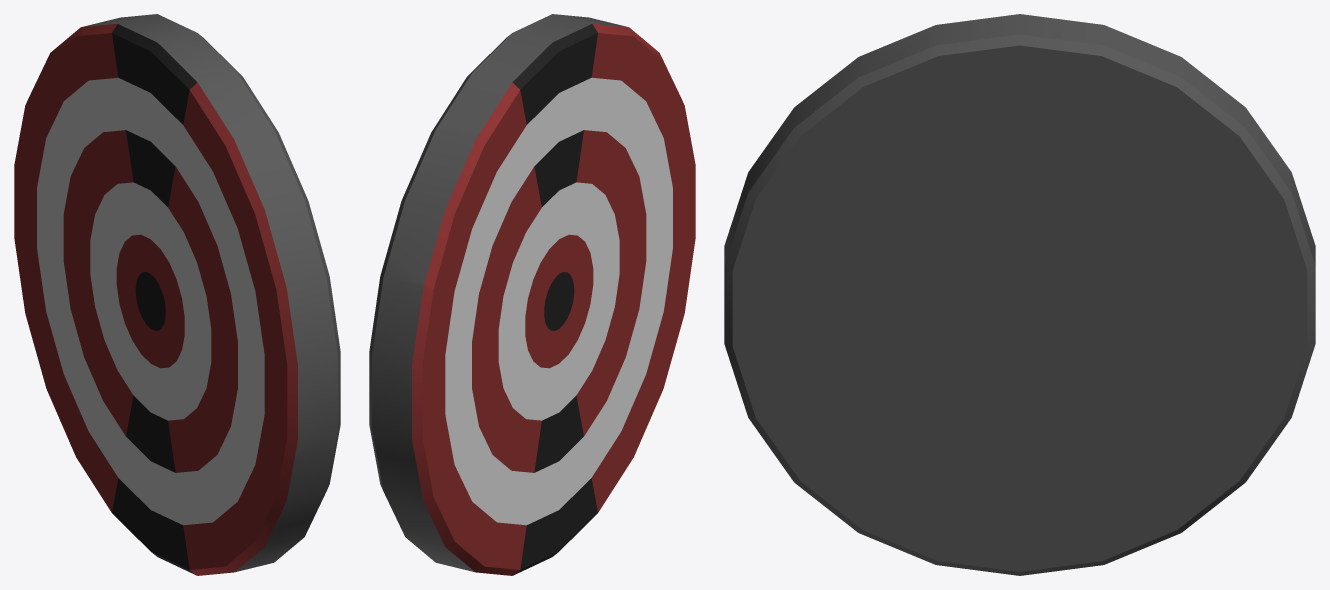
The model's file is Entity_Target-bkn.FBX.
3 views of the same model, side by side, from view 1: azimuth 30°, elevation 25°; view 2: azimuth 150°, elevation 25°; view 3: azimuth 270°, elevation 25° (orthographic). The views are drawn at different scales.
Visible parts, largest first — view 1: Target_Part_10, Target_Part_7, Target_Part_8, Target_Part_1, Target_Part_2, Target_Part_6, Target_Part_3, Target_Part_4, Target_Part_5, Target_Part_9; view 2: Target_Part_10, Target_Part_4, Target_Part_6, Target_Part_8, Target_Part_7, Target_Part_3, Target_Part_1, Target_Part_5, Target_Part_2, Target_Part_9; view 3: Target_Part_10, Target_Part_4, Target_Part_1, Target_Part_7, Target_Part_8, Target_Part_3, Target_Part_6, Target_Part_5, Target_Part_2, Target_Part_9.
Part boxes in pixels (<box>): Target_Part_10: <box>35,304,181,567</box>; Target_Part_7: <box>174,416,335,575</box>; Target_Part_8: <box>82,14,252,230</box>; Target_Part_1: <box>164,91,319,279</box>; Target_Part_2: <box>249,239,340,462</box>; Target_Part_6: <box>25,17,165,239</box>; Target_Part_3: <box>166,257,261,427</box>; Target_Part_4: <box>14,106,88,349</box>; Target_Part_5: <box>97,239,170,355</box>; Target_Part_9: <box>77,223,136,330</box>; Target_Part_10: <box>400,334,589,575</box>; Target_Part_4: <box>369,252,496,525</box>; Target_Part_6: <box>387,122,574,329</box>; Target_Part_8: <box>437,14,618,210</box>; Target_Part_7: <box>582,264,691,527</box>; Target_Part_3: <box>574,136,669,370</box>; Target_Part_1: <box>566,15,674,226</box>; Target_Part_5: <box>505,218,579,350</box>; Target_Part_2: <box>657,81,695,264</box>; Target_Part_9: <box>486,318,545,394</box>; Target_Part_10: <box>958,367,1256,575</box>; Target_Part_4: <box>1140,168,1315,466</box>; Target_Part_1: <box>771,42,1007,252</box>; Target_Part_7: <box>735,361,972,569</box>; Target_Part_8: <box>894,14,1171,205</box>; Target_Part_3: <box>795,219,983,408</box>; Target_Part_6: <box>1023,53,1288,247</box>; Target_Part_5: <box>972,198,1158,368</box>; Target_Part_2: <box>724,140,820,378</box>; Target_Part_9: <box>1005,246,1179,378</box>.
Bounding box in the file's own units: 5.43 × 49.94 × 49.43.
